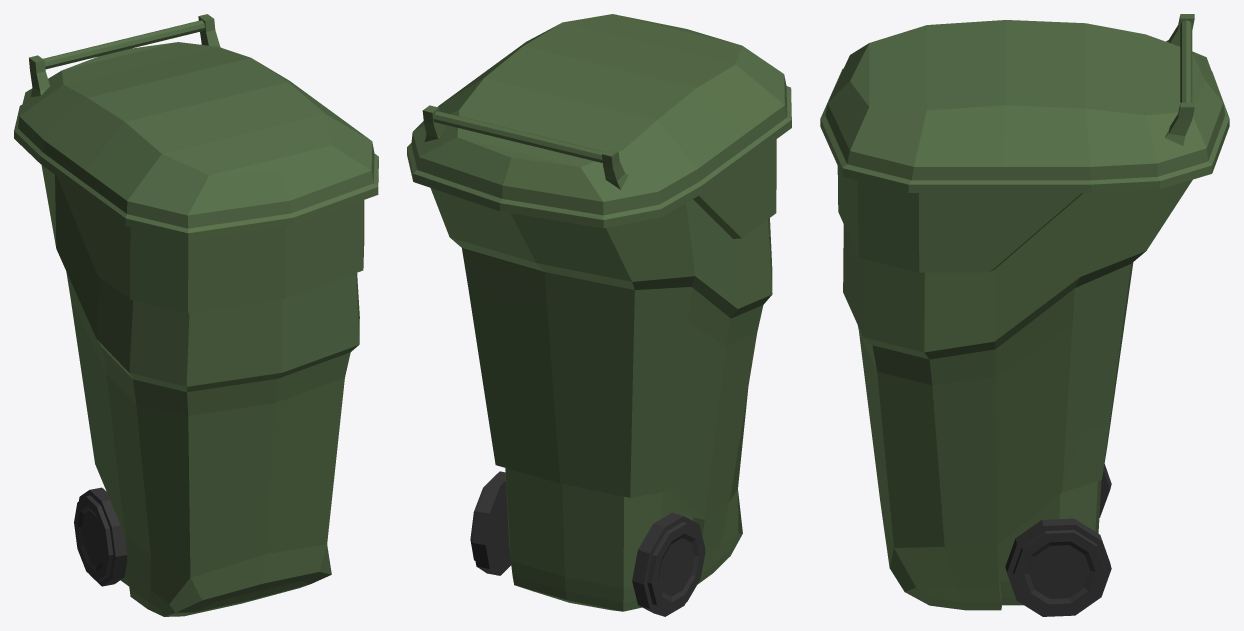
File: trashcan.glb
3 renders of one model, left to right at view 1: azimuth 30°, elevation 25°; view 2: azimuth 150°, elevation 25°; view 3: azimuth 270°, elevation 25°, orthographic. The views are drawn at different scales.
Parts seen in each view (by area): view 1: Trashcan; view 2: Trashcan; view 3: Trashcan.
Boxes of the visible parts, <box> form: Trashcan: <box>14,14,378,616</box>; Trashcan: <box>407,14,791,616</box>; Trashcan: <box>820,14,1229,616</box>.
Bounding box in the file's own units: 3.72 × 6.75 × 4.86.
